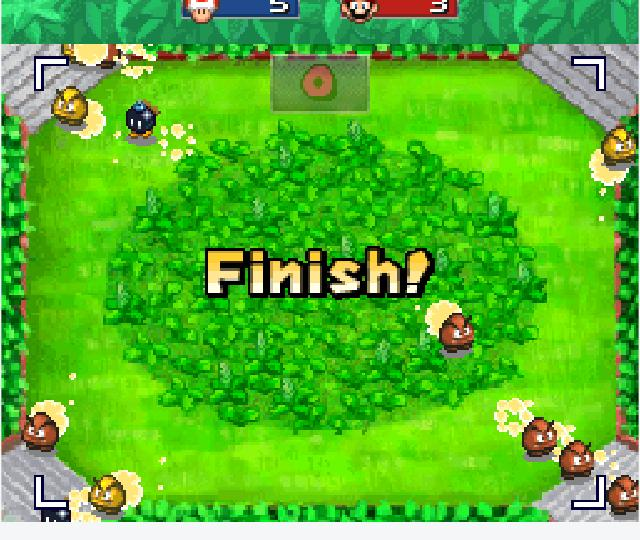bomb: (116, 94, 163, 151), (33, 497, 78, 527)
goomba: (85, 468, 133, 522), (595, 117, 640, 174), (428, 309, 479, 358), (48, 78, 94, 132), (15, 408, 64, 456), (556, 434, 597, 482), (517, 415, 560, 460), (603, 472, 640, 519)
